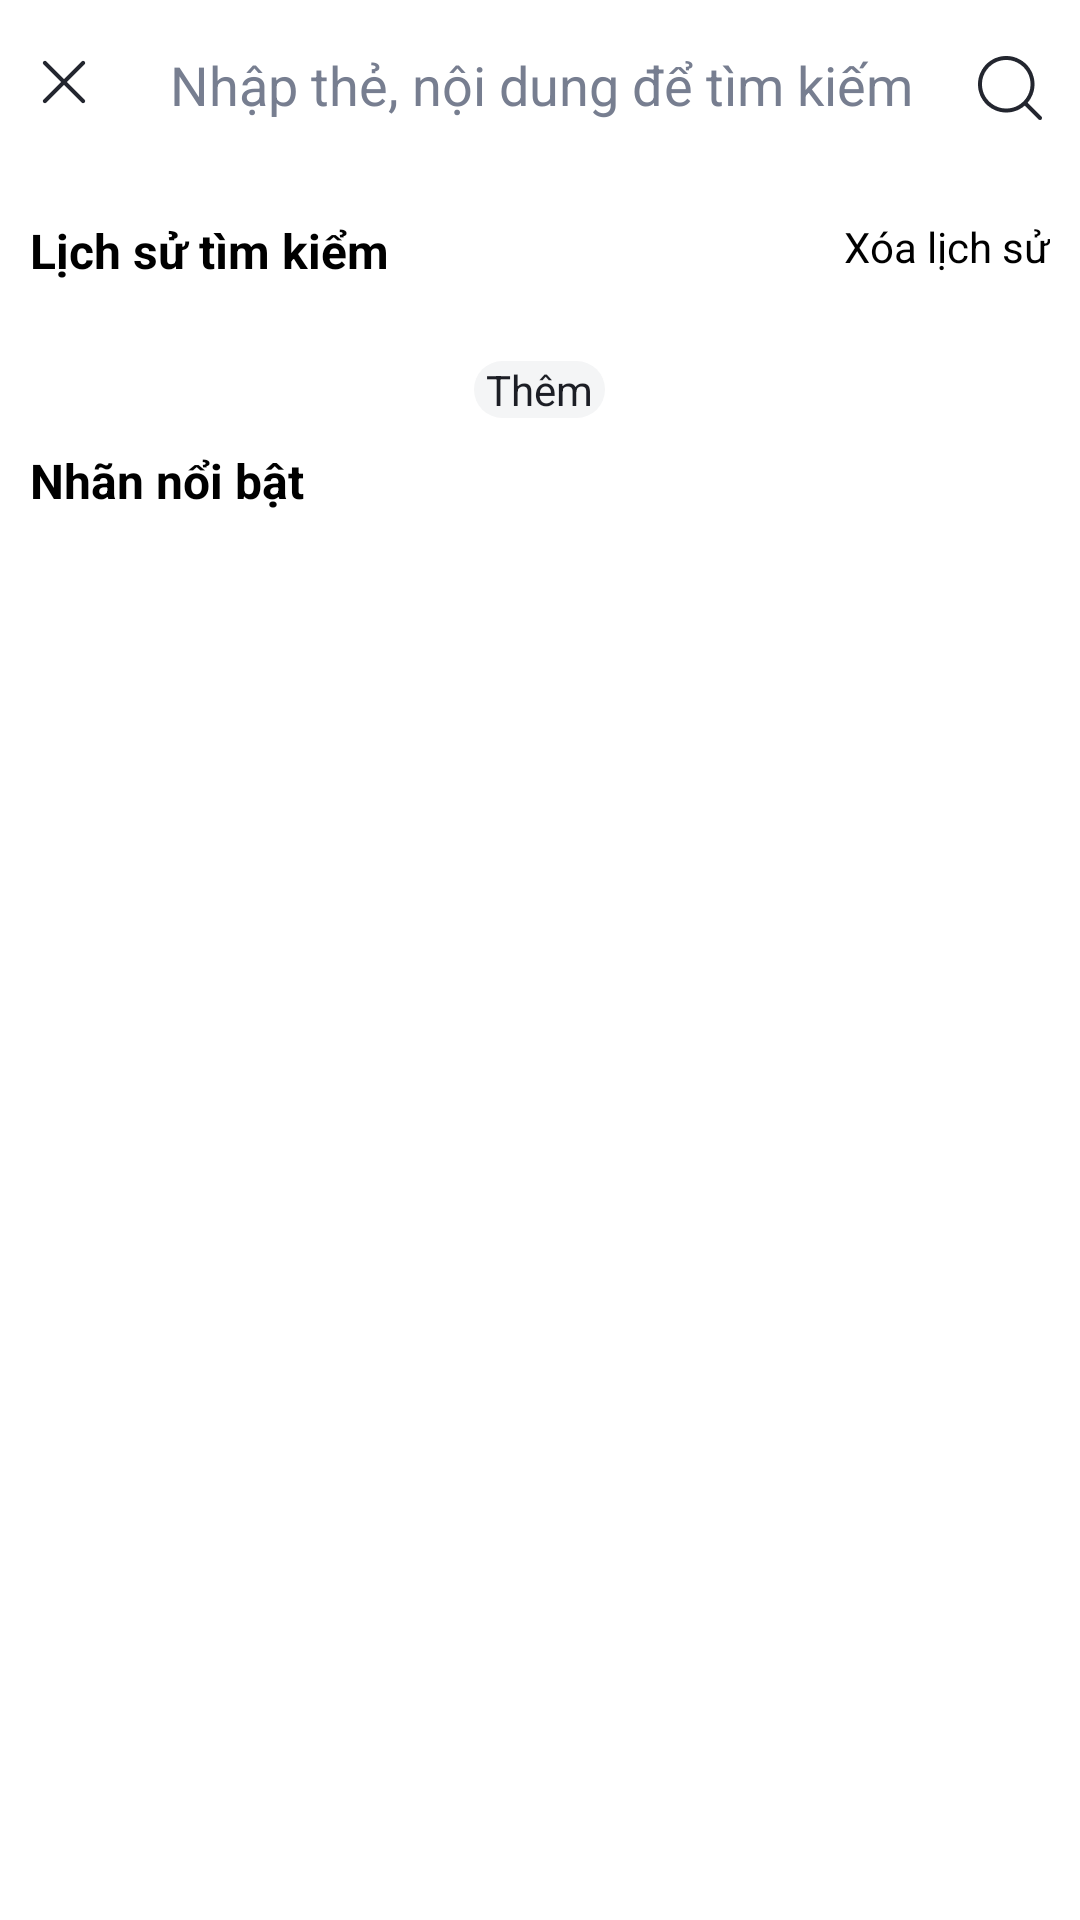

Point at icon controls on the screen. Image size 1080*1920, points as point (x, y).
cancel: point (64, 82)
search: point (1010, 88)
